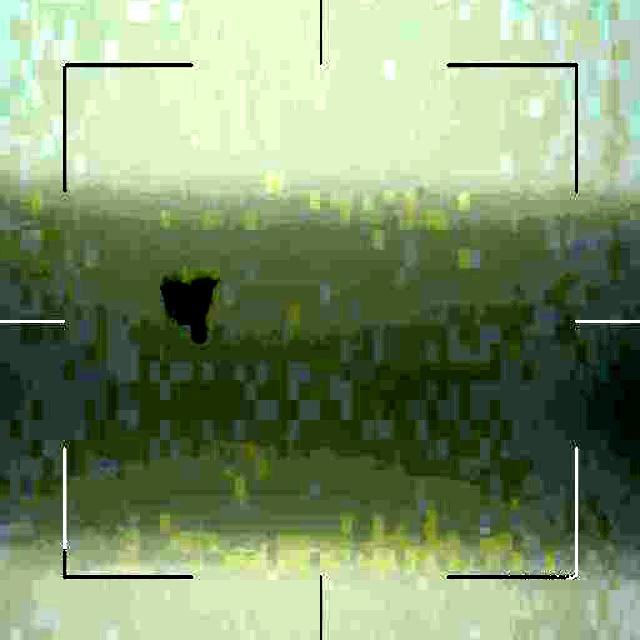bird: (150, 272, 226, 354)
